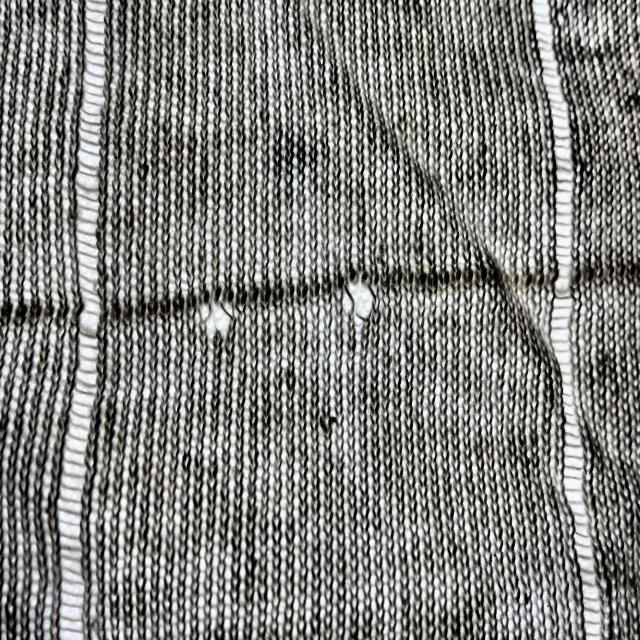Hole: (336, 273, 383, 330), (200, 289, 238, 346)
Stitch: (526, 0, 606, 639), (54, 0, 113, 639)
